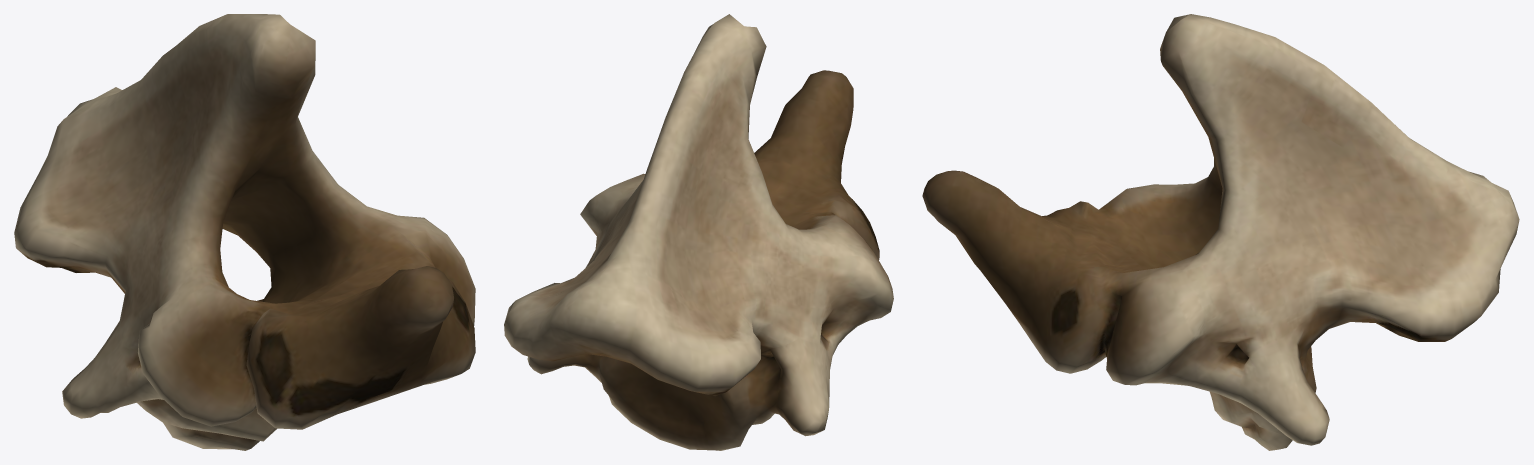
File: C2_Axis.glb
3 renders of one model, left to right at view 1: azimuth 30°, elevation 25°; view 2: azimuth 150°, elevation 25°; view 3: azimuth 270°, elevation 25°, orthographic. The views are drawn at different scales.
Parts seen in each view (by area): view 1: C2_Axis1:Group40209; view 2: C2_Axis1:Group40209; view 3: C2_Axis1:Group40209.
Part boxes in pixels (x1=…): C2_Axis1:Group40209: x1=14, y1=14, x2=475, y2=450; C2_Axis1:Group40209: x1=504, y1=14, x2=893, y2=450; C2_Axis1:Group40209: x1=922, y1=14, x2=1519, y2=450.
Size of the model in its own units: 30.72 by 40.29 by 51.43.
Materials: 1 (1 with a texture image).
